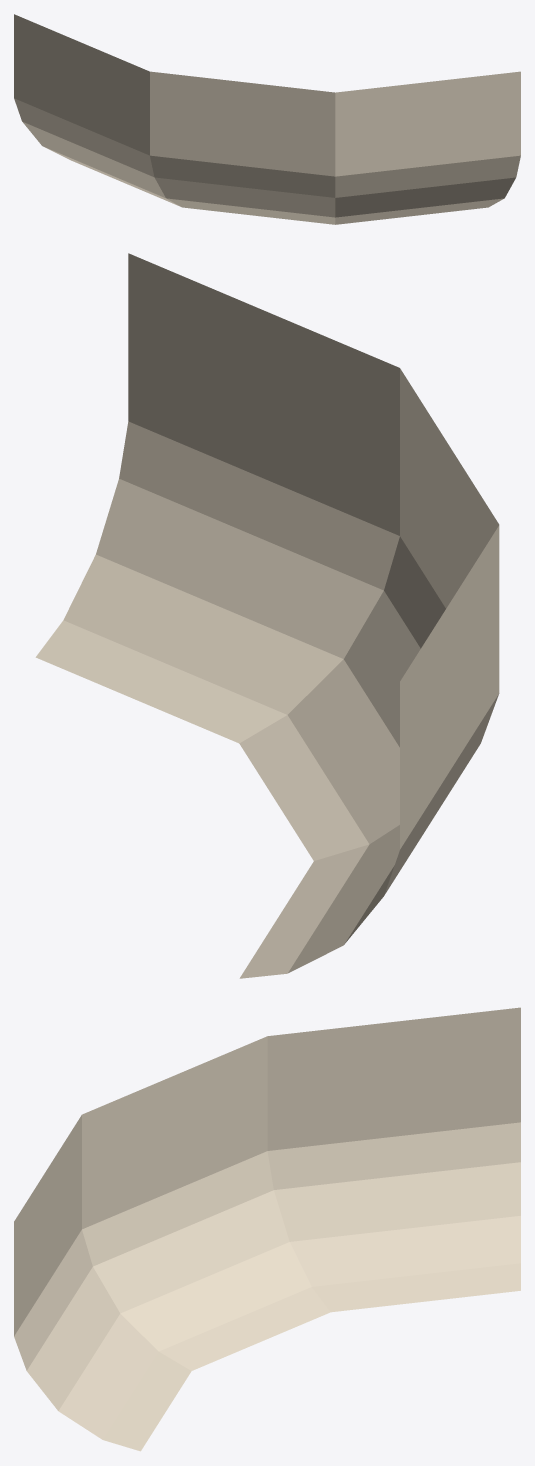
Rendered from Escarpment_Terrain_Corner_Inner_2x2_Base.glb.
The picture shows the model from 3 angles, top to bottom: view 1: azimuth 30°, elevation 25°; view 2: azimuth 150°, elevation 25°; view 3: azimuth 270°, elevation 25°; orthographic projection. The views are drawn at different scales.
Parts seen in each view (by area): view 1: Escarpment_Terrain_Corner_Inner_2x2_Base; view 2: Escarpment_Terrain_Corner_Inner_2x2_Base; view 3: Escarpment_Terrain_Corner_Inner_2x2_Base.
Boxes of the visible parts, left/top/right/bottom form: Escarpment_Terrain_Corner_Inner_2x2_Base: left=14, top=14, right=520, bottom=224; Escarpment_Terrain_Corner_Inner_2x2_Base: left=35, top=253, right=499, bottom=978; Escarpment_Terrain_Corner_Inner_2x2_Base: left=14, top=1007, right=520, bottom=1451.
Size of the model in its own units: 1.06 by 0.53 by 1.06.
